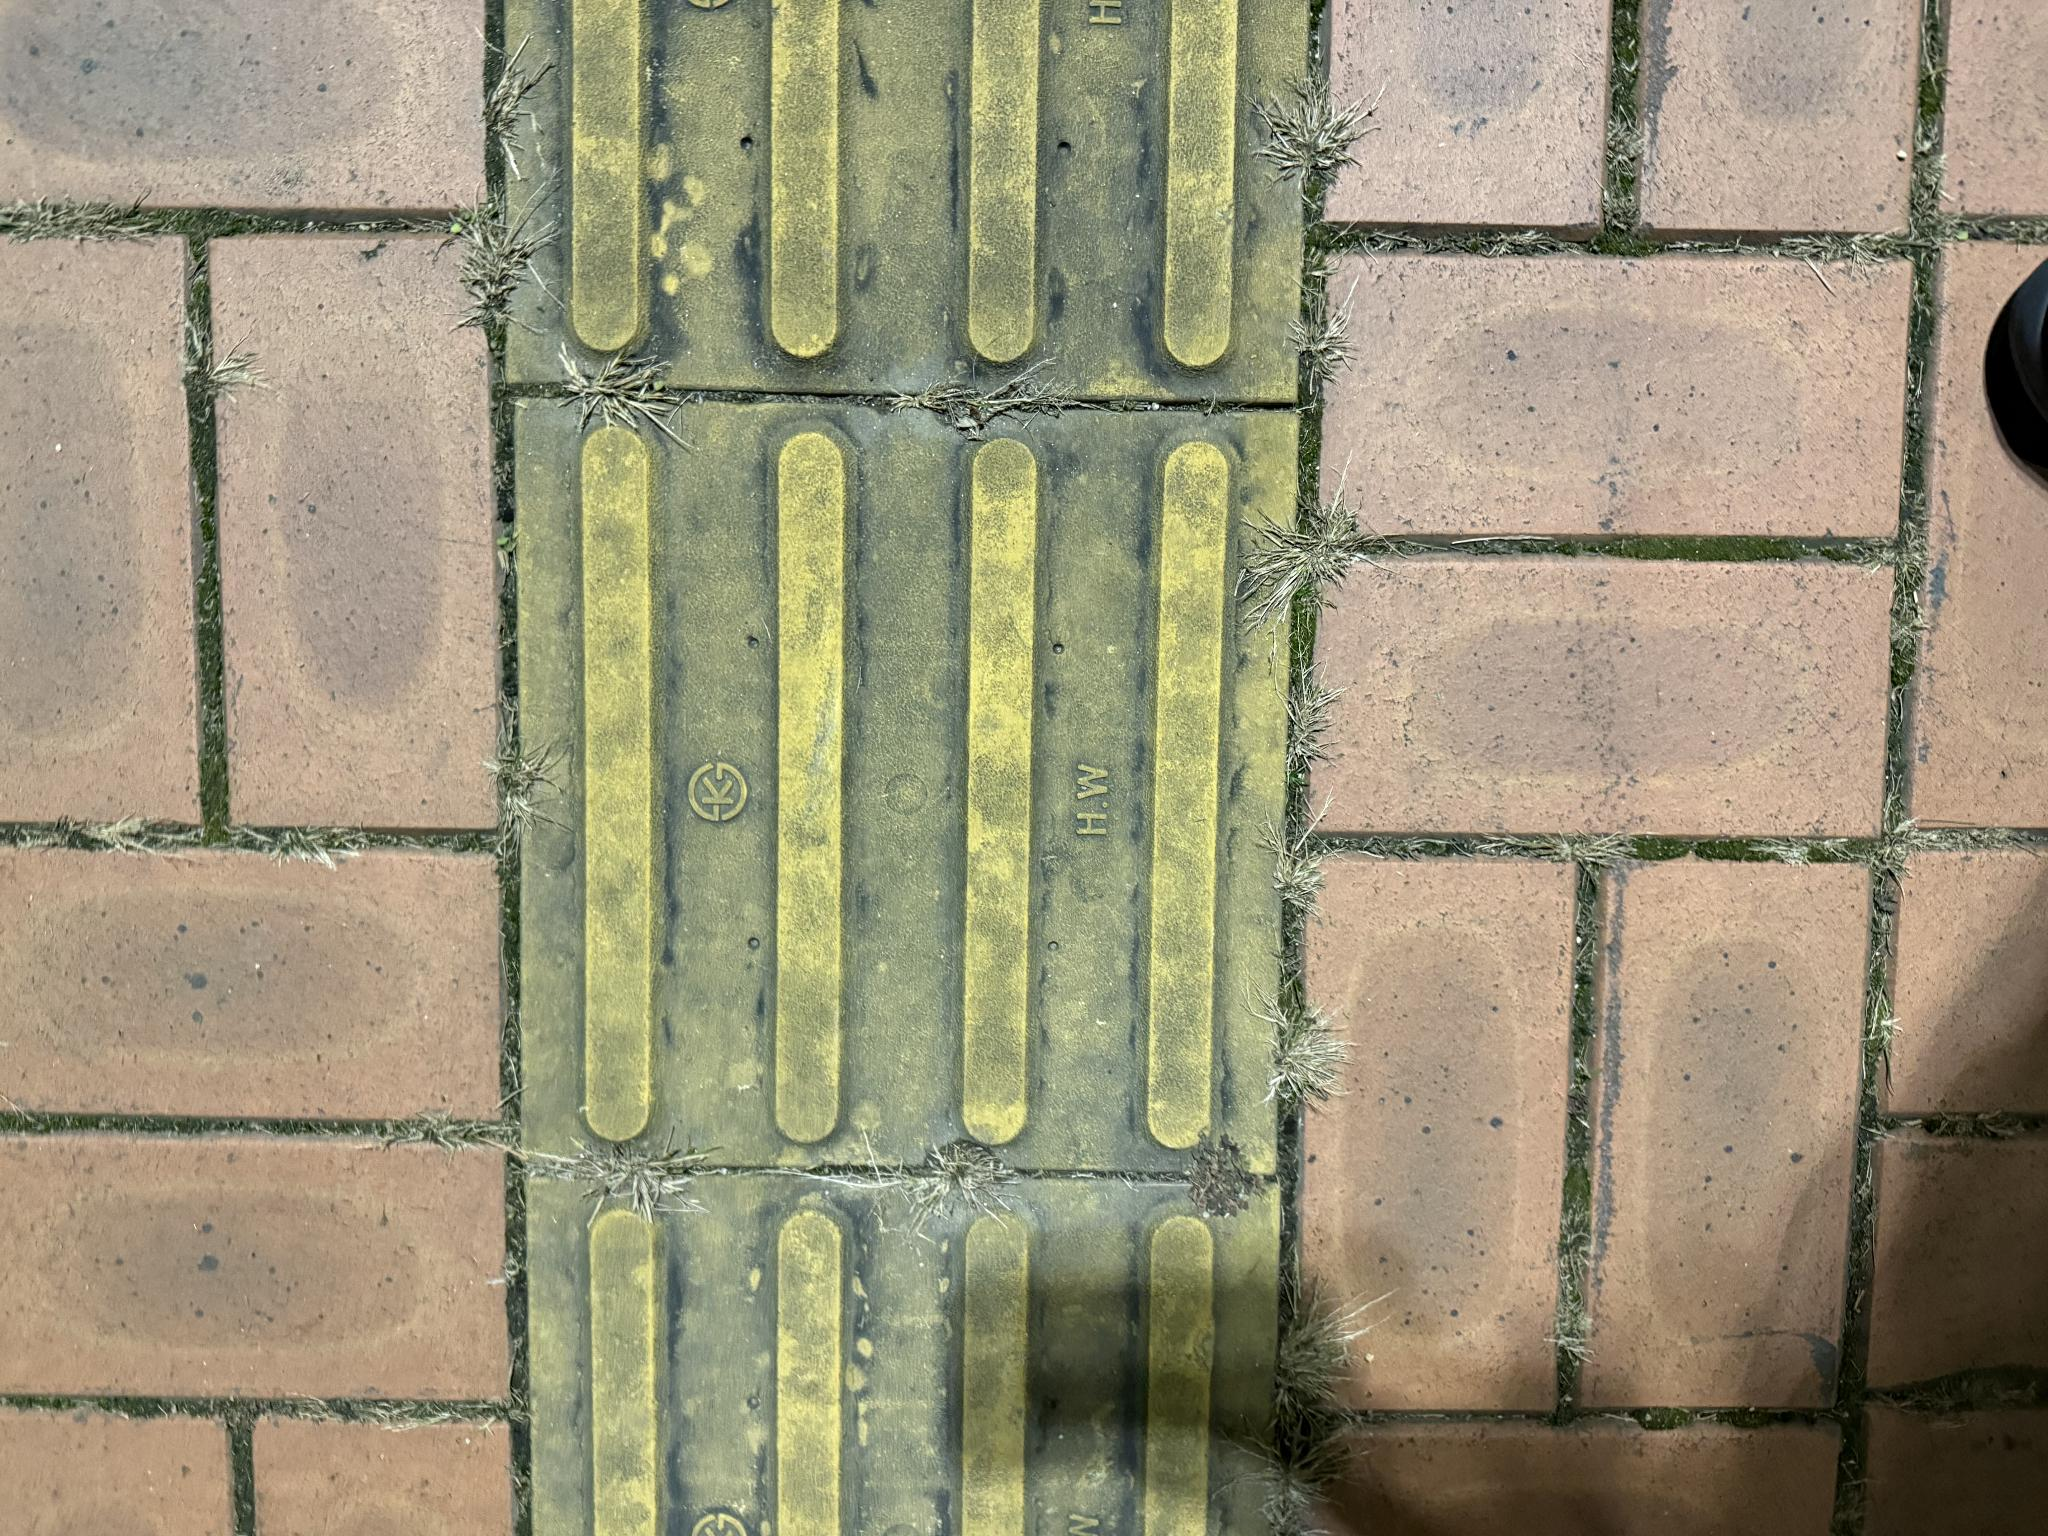Straight block normal: (364, 521, 1134, 1286)
